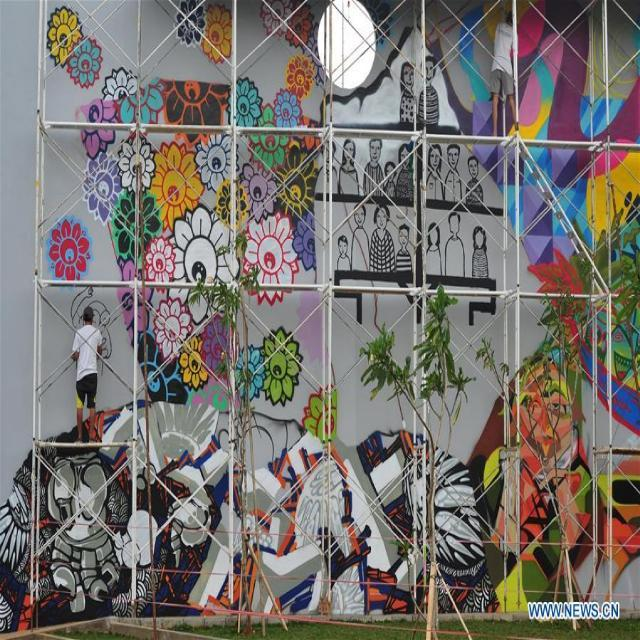-: (38, 0, 333, 434), (0, 402, 481, 629), (430, 0, 640, 439), (320, 27, 497, 326), (467, 338, 639, 614)
